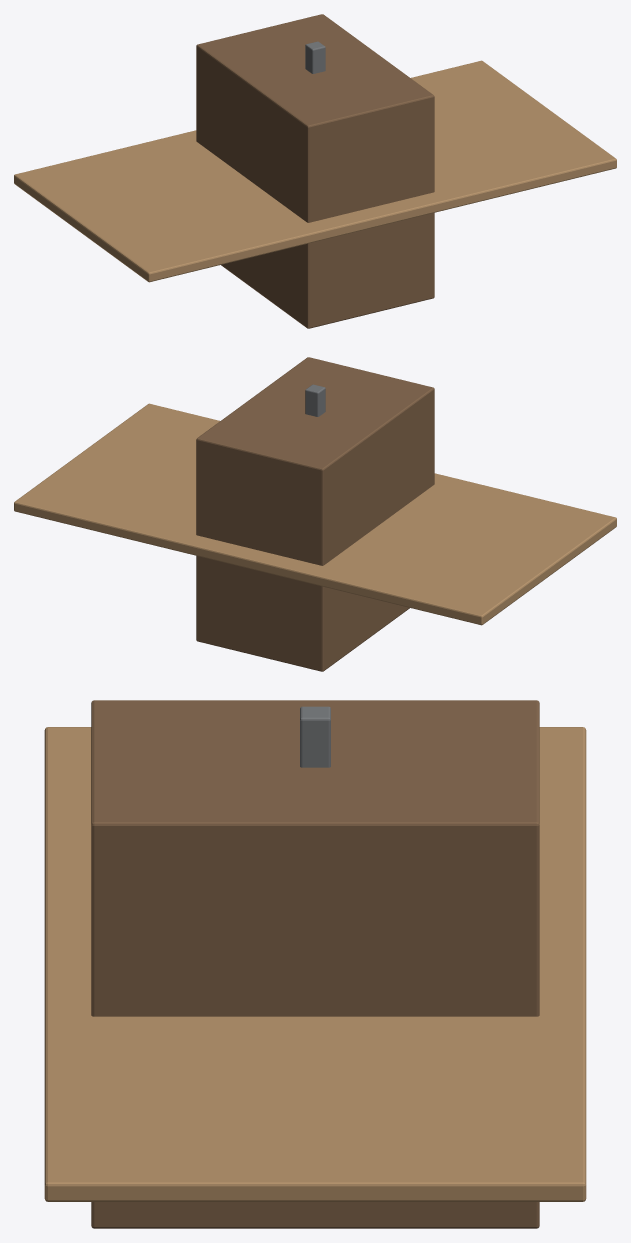
Rendered from furniture-desk.glb.
The picture shows the model from 3 angles, top to bottom: view 1: azimuth 30°, elevation 25°; view 2: azimuth 150°, elevation 25°; view 3: azimuth 270°, elevation 25°; orthographic projection. The views are drawn at different scales.
Parts seen in each view (by area): view 1: Pedestal, Top, Leg_0.64_0.3; view 2: Pedestal, Top, Leg_0.64_0.3; view 3: Pedestal, Top, Leg_0.64_0.3.
Boxes of the visible parts, x1,y1,x2,y2 form: Pedestal: [196, 14, 434, 328]; Top: [14, 60, 616, 282]; Leg_0.64_0.3: [305, 41, 325, 73]; Pedestal: [196, 357, 434, 671]; Top: [14, 403, 616, 625]; Leg_0.64_0.3: [305, 384, 325, 416]; Pedestal: [91, 700, 539, 1228]; Top: [44, 727, 586, 1201]; Leg_0.64_0.3: [300, 706, 330, 767].
Bounding box in the file's own units: 1.4 × 0.72 × 0.7.
